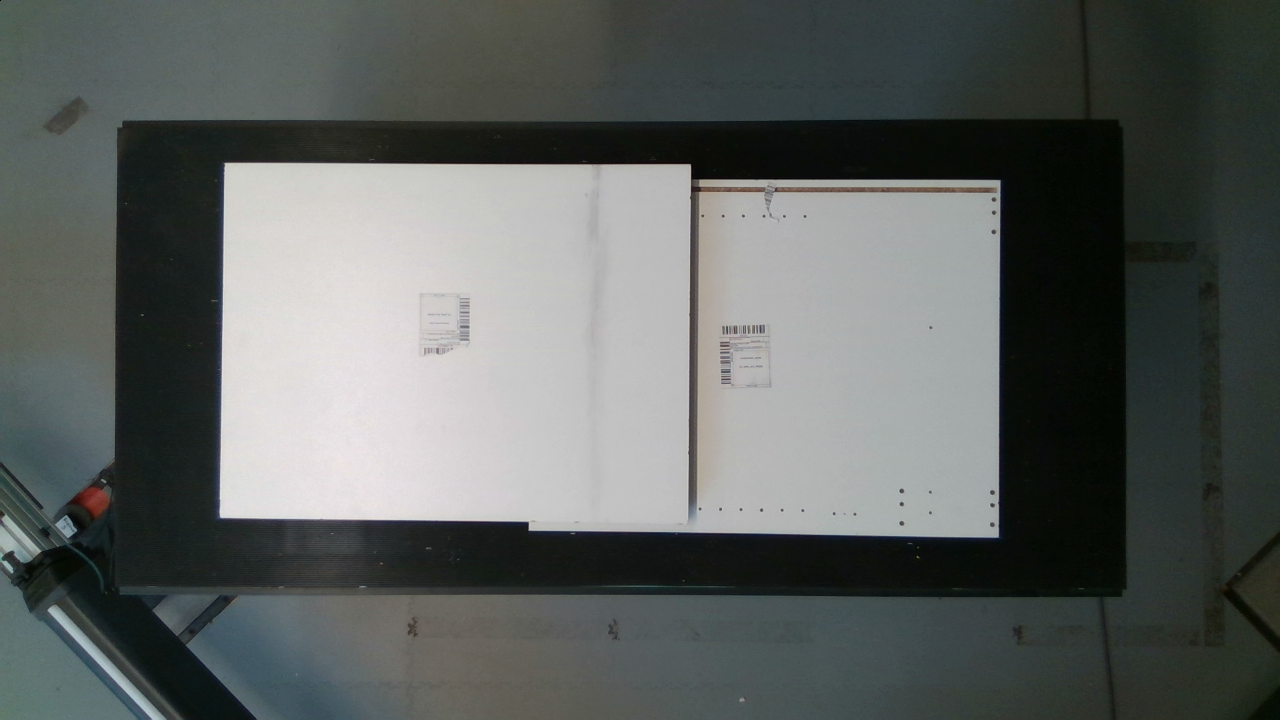barcode: (411, 283, 484, 360), (713, 321, 784, 396)
part2: (216, 151, 700, 523)
